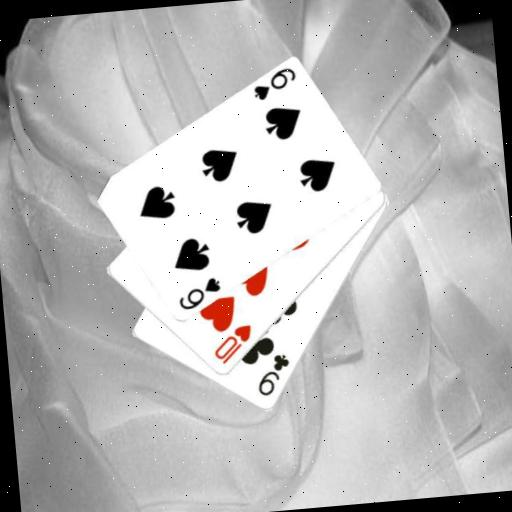10H: (209, 321, 256, 367)
6S: (248, 64, 299, 104), (174, 274, 224, 313)
9C: (252, 350, 294, 399)
